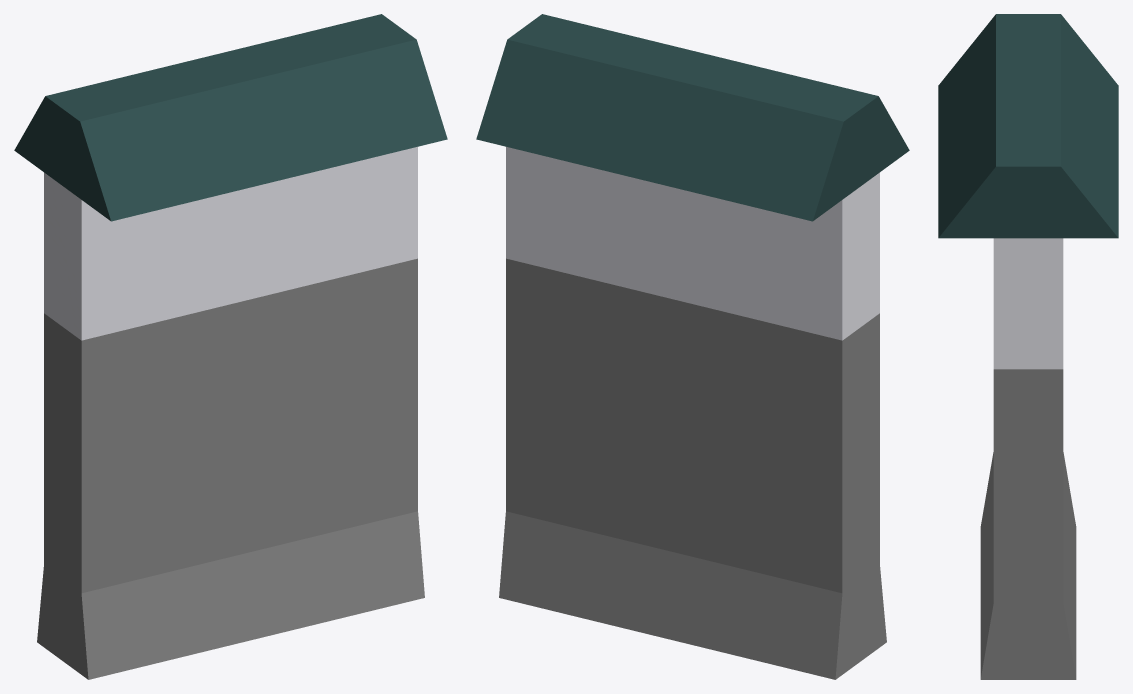
Rendered from Asian_Prop_Building_Fence_Wall_High_Small_02.FBX.
The picture shows the model from 3 angles, left to right: view 1: azimuth 30°, elevation 25°; view 2: azimuth 150°, elevation 25°; view 3: azimuth 270°, elevation 25°; orthographic projection. The views are drawn at different scales.
Visible parts, largest first — view 1: Asian_Prop_Building_Fence_Wall_High_Small_02; view 2: Asian_Prop_Building_Fence_Wall_High_Small_02; view 3: Asian_Prop_Building_Fence_Wall_High_Small_02.
Boxes of the visible parts, bbox=[...] form: Asian_Prop_Building_Fence_Wall_High_Small_02: bbox=[14, 14, 447, 679]; Asian_Prop_Building_Fence_Wall_High_Small_02: bbox=[476, 14, 909, 679]; Asian_Prop_Building_Fence_Wall_High_Small_02: bbox=[938, 14, 1118, 679].
Size of the model in its own units: 2584 by 4051 by 1290.
